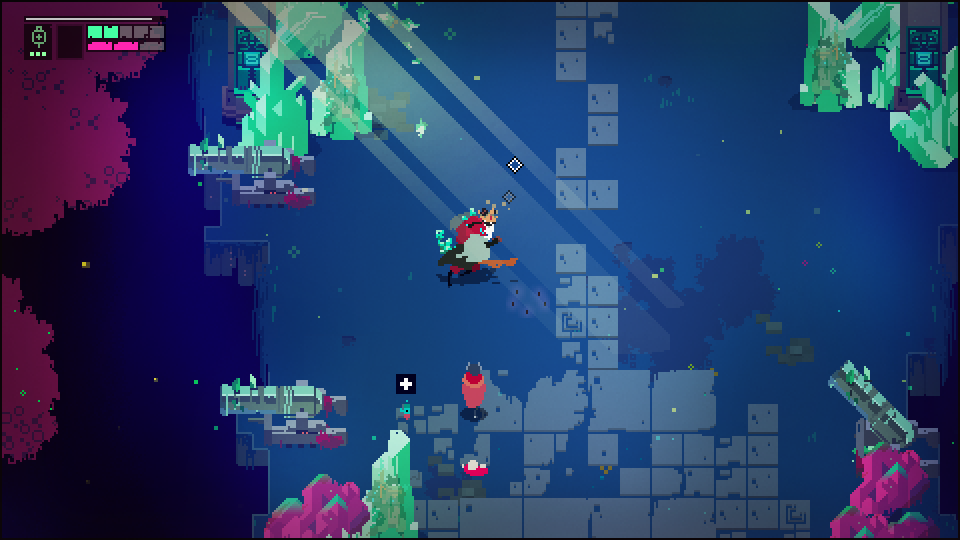hanged_man: (431, 201, 518, 286)
player: (459, 358, 487, 422)
